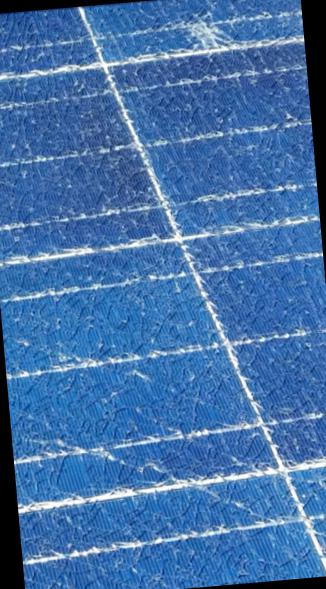Crack: (169, 0, 241, 67)
